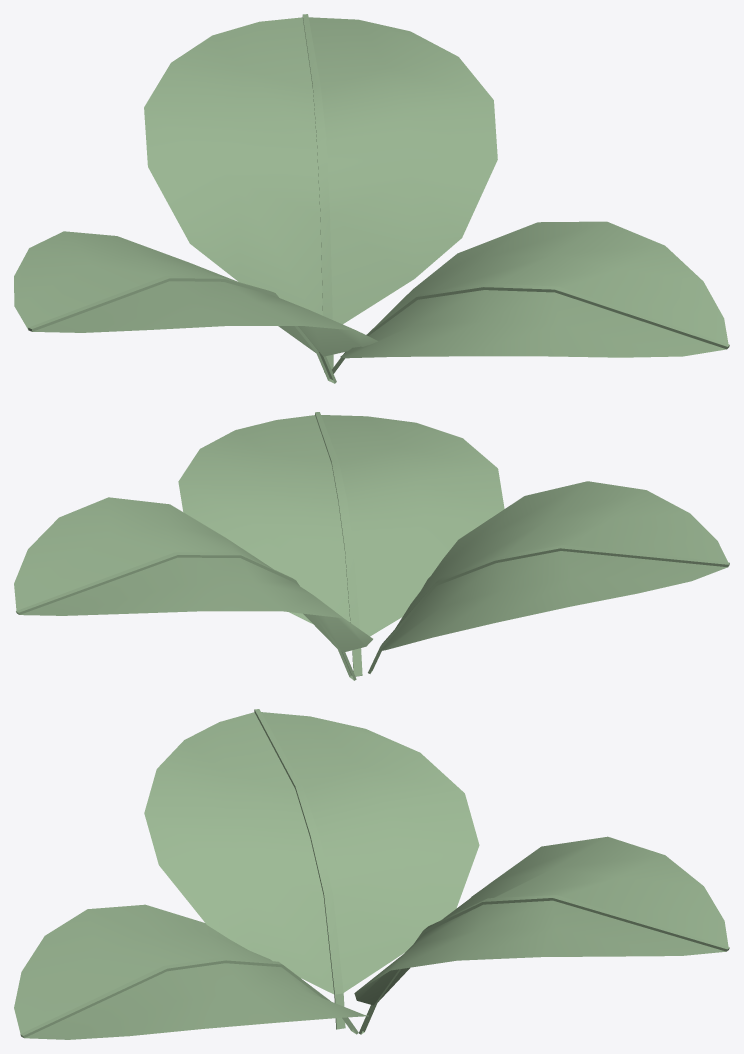
The model's file is Plants2.fbx.
3 renders of one model, top to bottom at view 1: azimuth 30°, elevation 25°; view 2: azimuth 150°, elevation 25°; view 3: azimuth 270°, elevation 25°, orthographic. The views are drawn at different scales.
Parts seen in each view (by area): view 1: pPlane25, pPlane26, pPlane27; view 2: pPlane26, pPlane27, pPlane25; view 3: pPlane27, pPlane26, pPlane25.
Boxes of the visible parts, box(x1,y1,x2,y2) form: pPlane25: box(144, 14, 497, 372); pPlane26: box(332, 221, 729, 373); pPlane27: box(14, 231, 377, 383); pPlane26: box(178, 412, 504, 676); pPlane27: box(368, 481, 729, 673); pPlane25: box(14, 497, 372, 680); pPlane27: box(144, 709, 479, 1029); pPlane26: box(14, 904, 368, 1039); pPlane25: box(354, 836, 729, 1034).
Bounding box in the file's own units: 1.73 × 0.5219 × 1.88.
